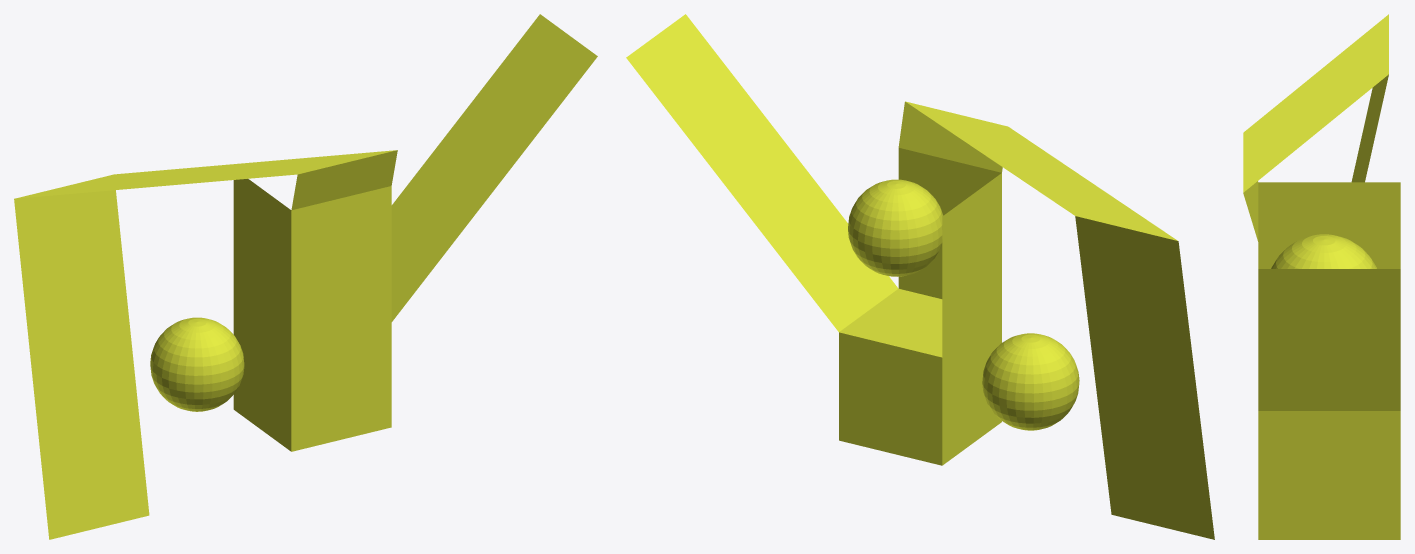
File: week3-abstract.glb
The picture shows the model from 3 angles, left to right: view 1: azimuth 30°, elevation 25°; view 2: azimuth 150°, elevation 25°; view 3: azimuth 270°, elevation 25°; orthographic projection. The views are drawn at different scales.
Parts seen in each view (by area): view 1: Cube; view 2: Cube; view 3: Cube.
Part boxes in pixels (box(x1,y1,x2,y2)): Cube: box(14, 14, 597, 539); Cube: box(626, 14, 1214, 539); Cube: box(1243, 14, 1400, 539).
Size of the model in its own units: 3.67 by 2.43 by 0.7667.
